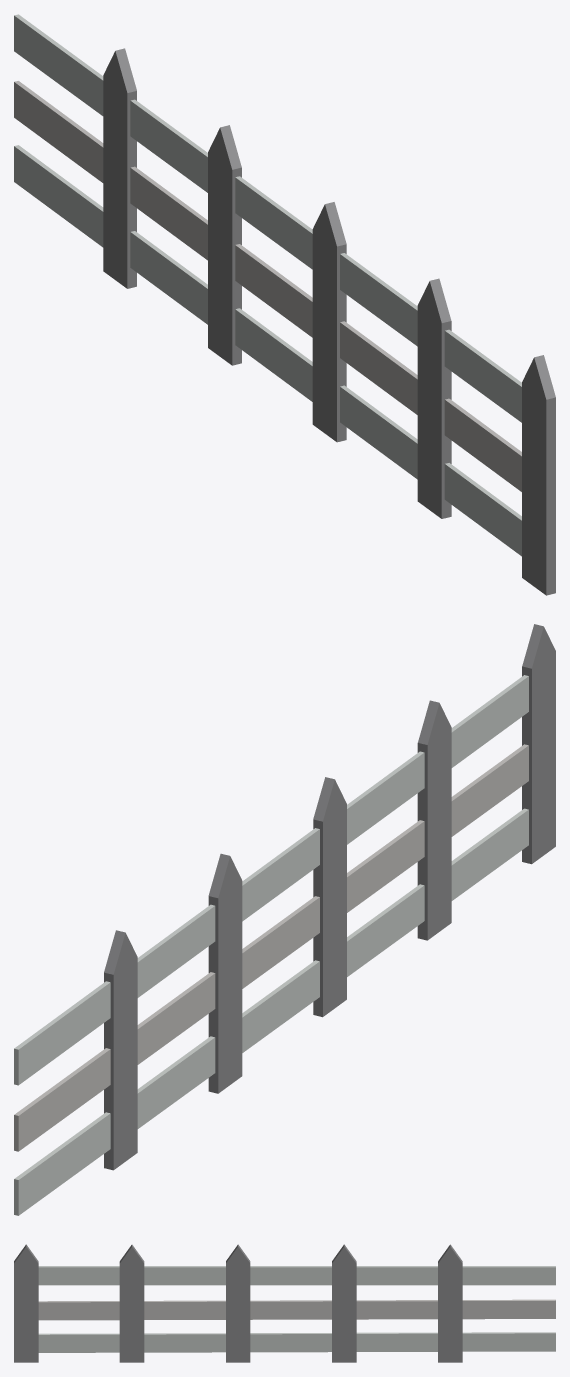
Rendered from FencePicketWhiteLarge_01.glb.
3 renders of one model, top to bottom at view 1: azimuth 30°, elevation 25°; view 2: azimuth 150°, elevation 25°; view 3: azimuth 270°, elevation 25°, orthographic. The views are drawn at different scales.
Parts seen in each view (by area): view 1: FencePicketWhiteLarge_01; view 2: FencePicketWhiteLarge_01; view 3: FencePicketWhiteLarge_01.
Part boxes in pixels (bbox=[...]): FencePicketWhiteLarge_01: bbox=[14, 14, 555, 595]; FencePicketWhiteLarge_01: bbox=[14, 624, 555, 1215]; FencePicketWhiteLarge_01: bbox=[14, 1244, 555, 1362].
Size of what is drawn, in the model's own units: 0.0534 by 1.21 by 5.11.
Materials: 1 (1 with a texture image).
